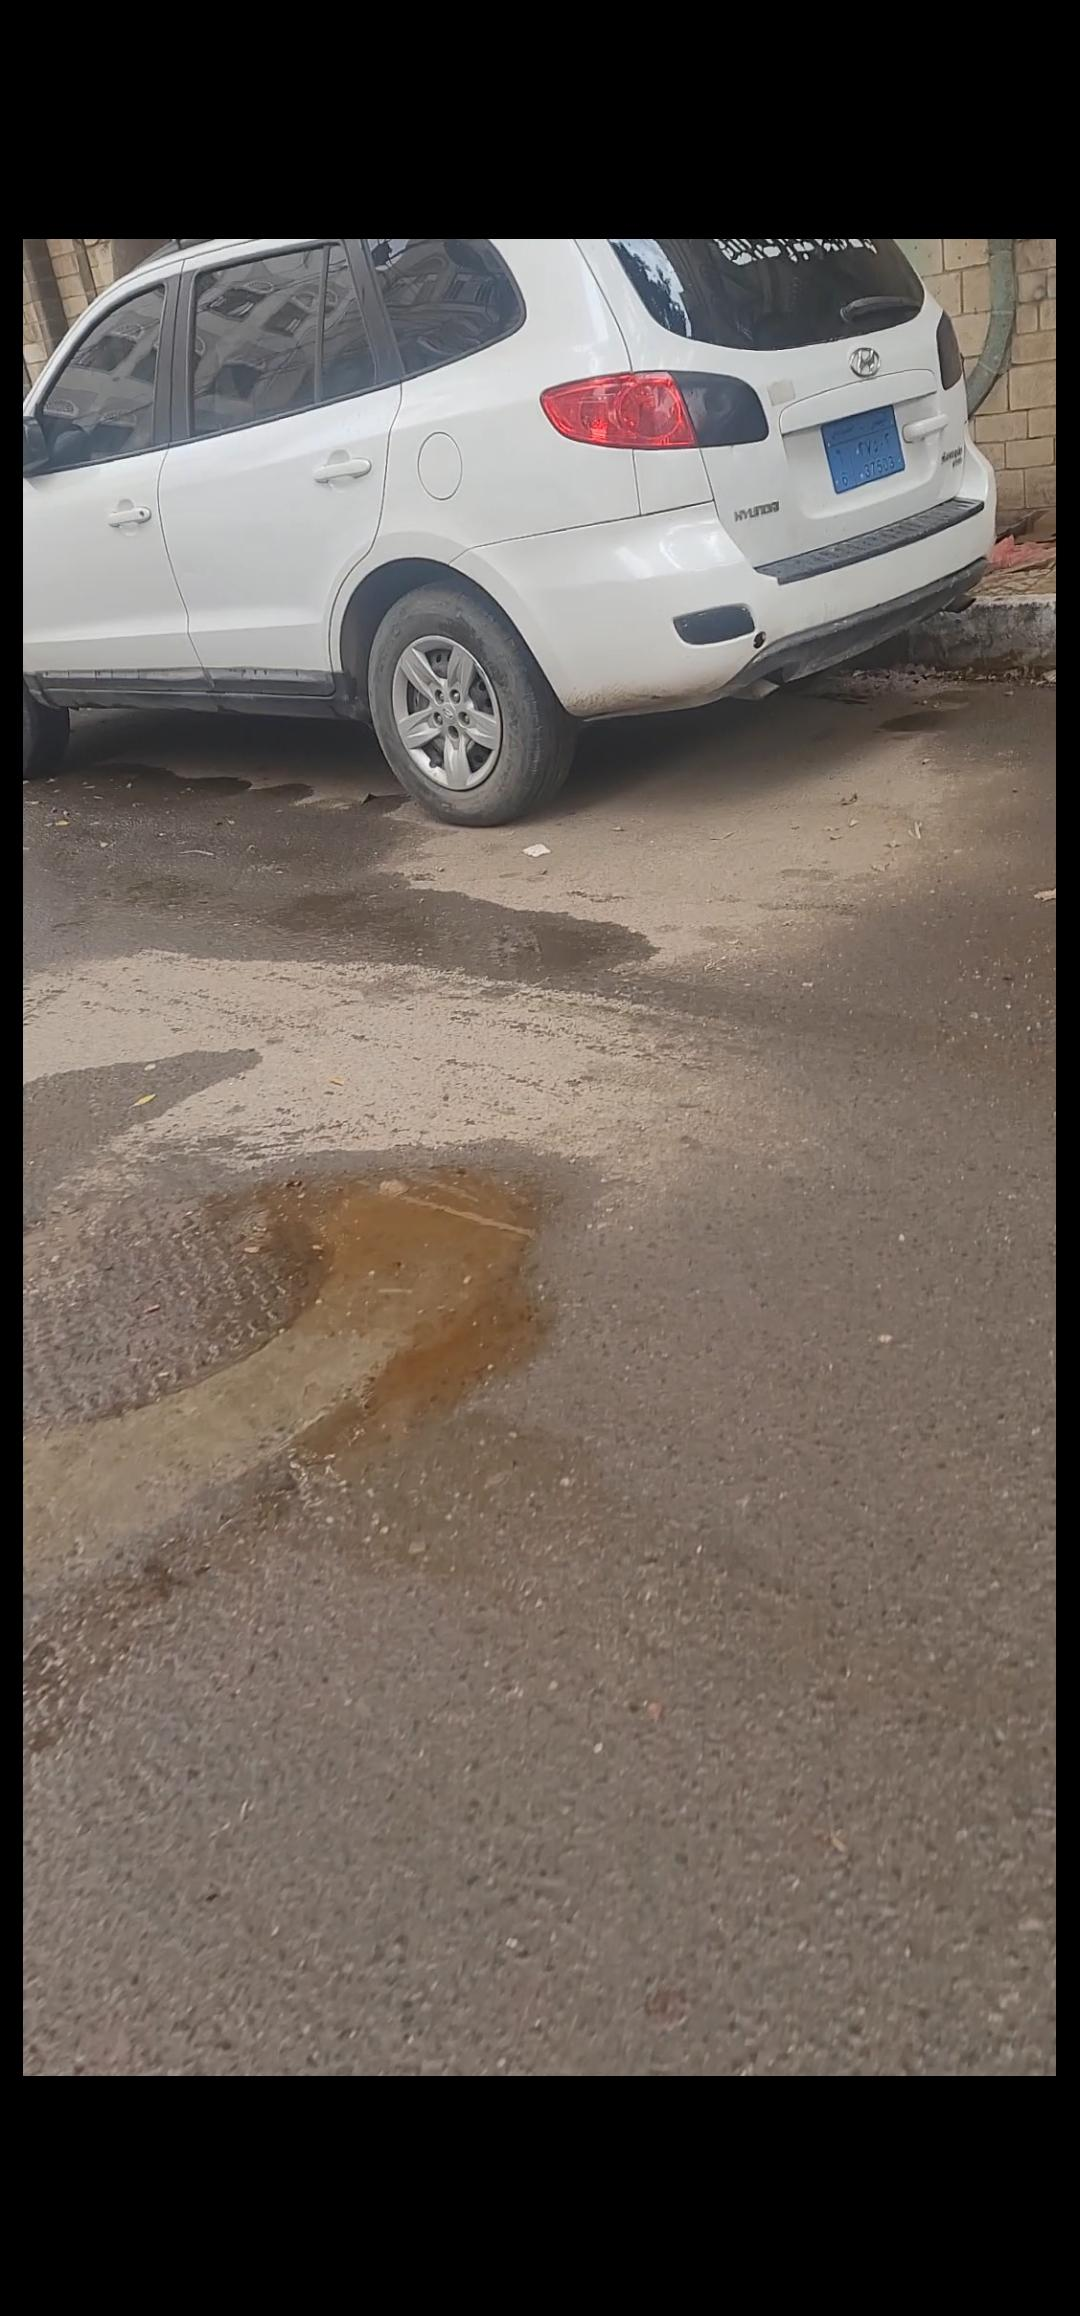privte: (823, 407, 904, 490)
